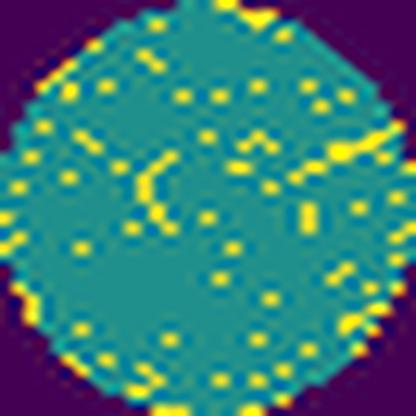Scratch: (286, 121, 403, 188), (134, 146, 184, 242)
